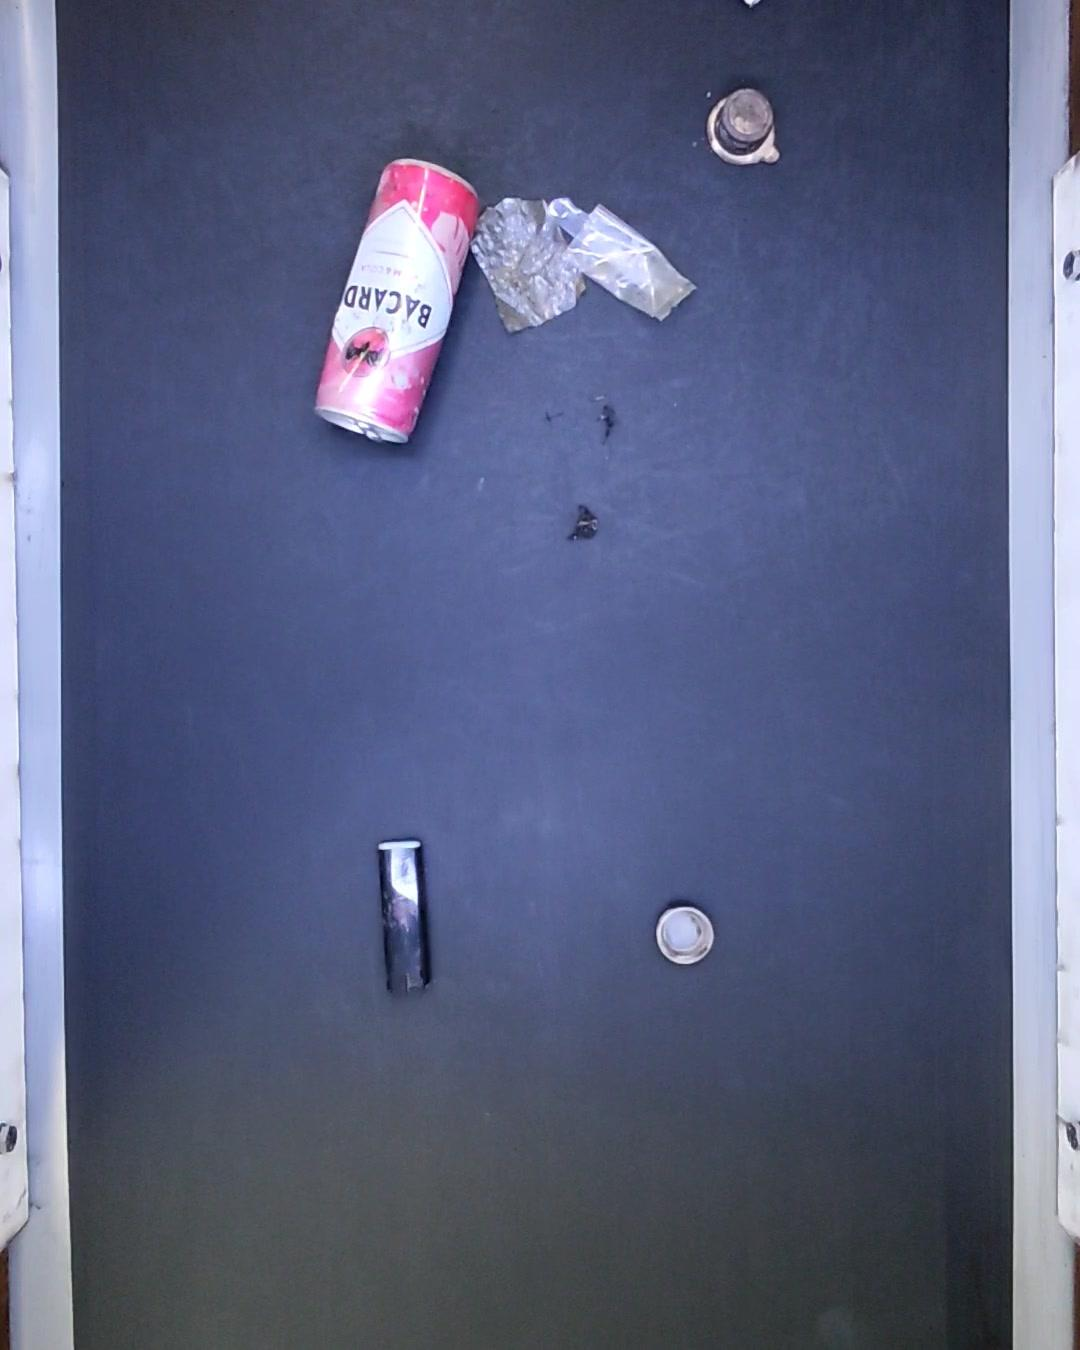Drankblikjes: (315, 156, 484, 443)
Plastic folies of stukken daarvan 2.5- 50 cm: (548, 191, 700, 320), (477, 197, 584, 331)
